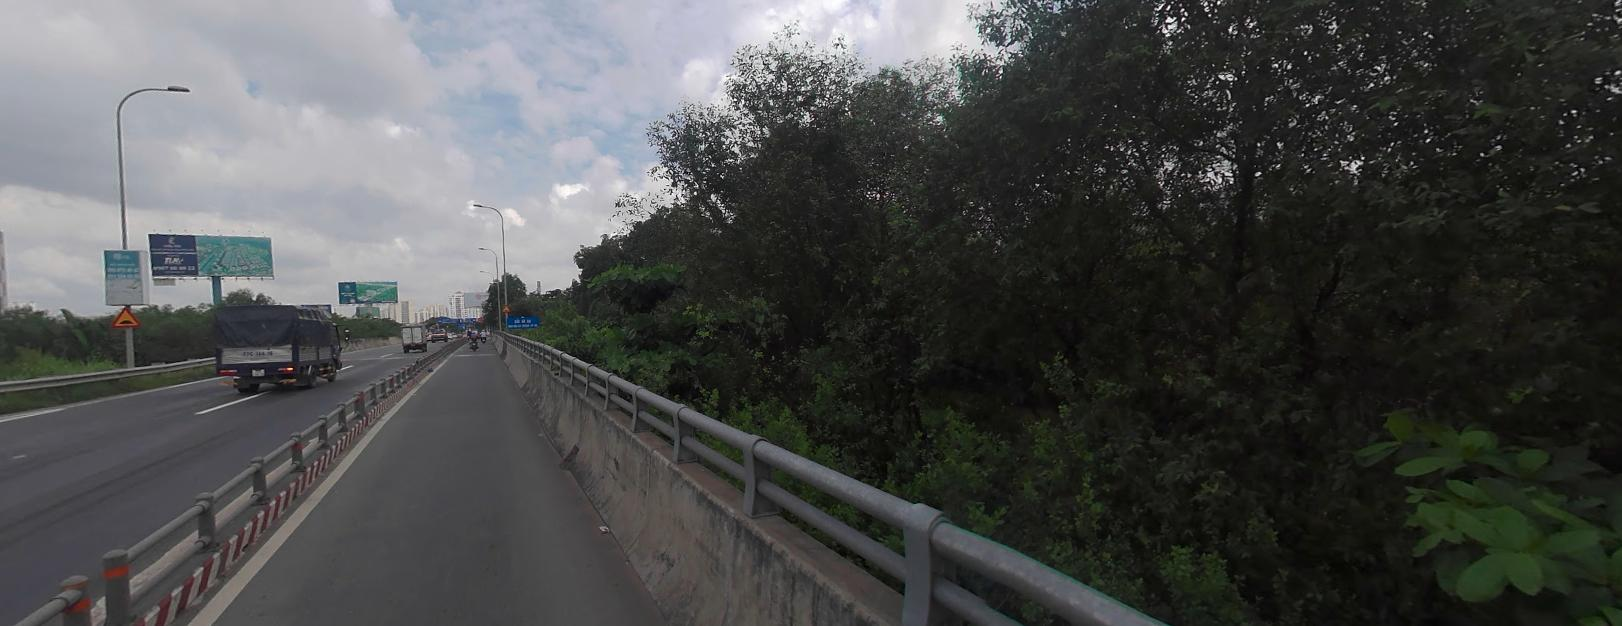Nguy hiem: (107, 301, 147, 329), (501, 302, 512, 311)
